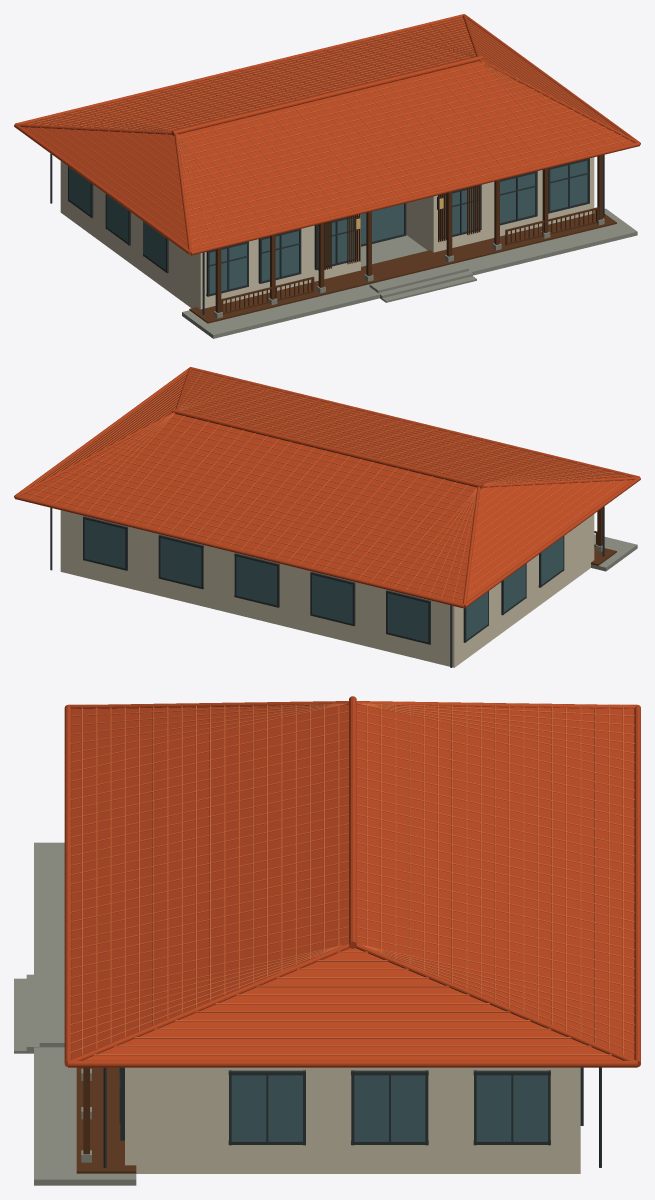
File: H01-proposal-v1-LOD0.glb
3 views of the same model, one above another, from view 1: azimuth 30°, elevation 25°; view 2: azimuth 150°, elevation 25°; view 3: azimuth 270°, elevation 25° (orthographic). The views are drawn at different scales.
Visible parts, largest first — view 1: H01_proposed_exterior_LOD0; view 2: H01_proposed_exterior_LOD0; view 3: H01_proposed_exterior_LOD0.
Part boxes in pixels (bbox=[...]): H01_proposed_exterior_LOD0: bbox=[14, 14, 640, 338]; H01_proposed_exterior_LOD0: bbox=[14, 367, 640, 667]; H01_proposed_exterior_LOD0: bbox=[14, 696, 640, 1185].
Bounding box in the file's own units: 29.84 × 7.7 × 22.02.
